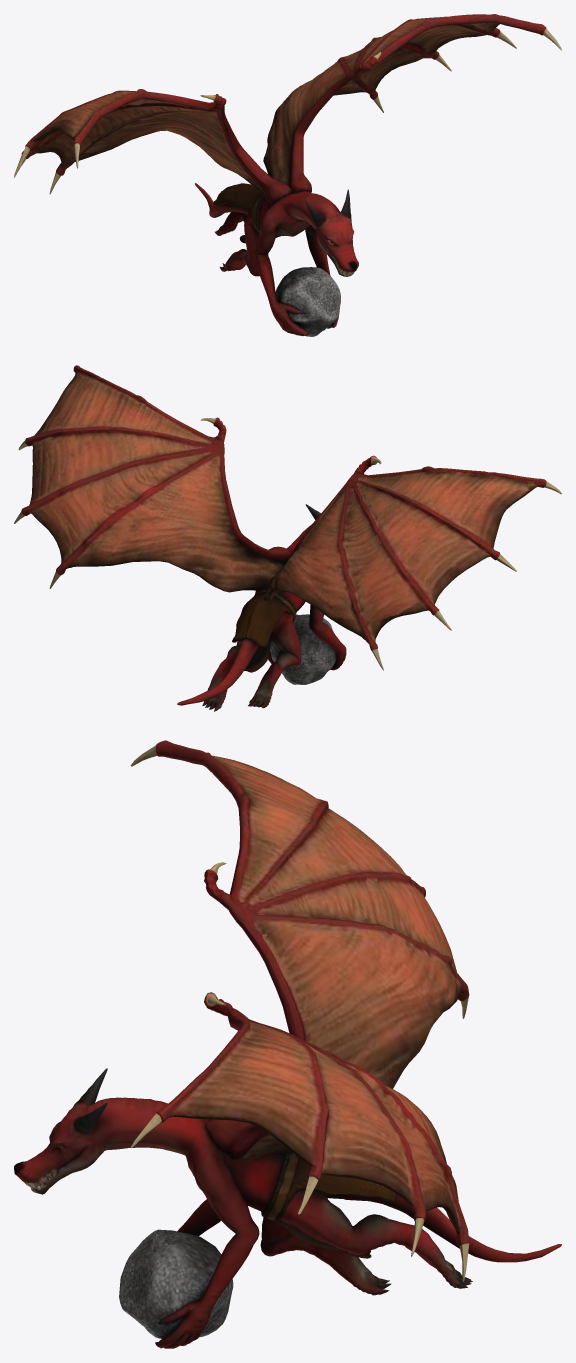
File: MZ4250 - Winged Kobold.glb
3 views of the same model, one above another, from view 1: azimuth 30°, elevation 25°; view 2: azimuth 150°, elevation 25°; view 3: azimuth 270°, elevation 25° (orthographic). The views are drawn at different scales.
Visible parts, largest first — view 1: Winged Kobold updated.001; view 2: Winged Kobold updated.001; view 3: Winged Kobold updated.001.
Part boxes in pixels (x1,y1,x2,y2): Winged Kobold updated.001: (14,14,561,336); Winged Kobold updated.001: (14,365,561,711); Winged Kobold updated.001: (14,740,561,1348).
Size of the model in its own units: 230 by 117 by 136.
Materials: 1 (1 with a texture image).
